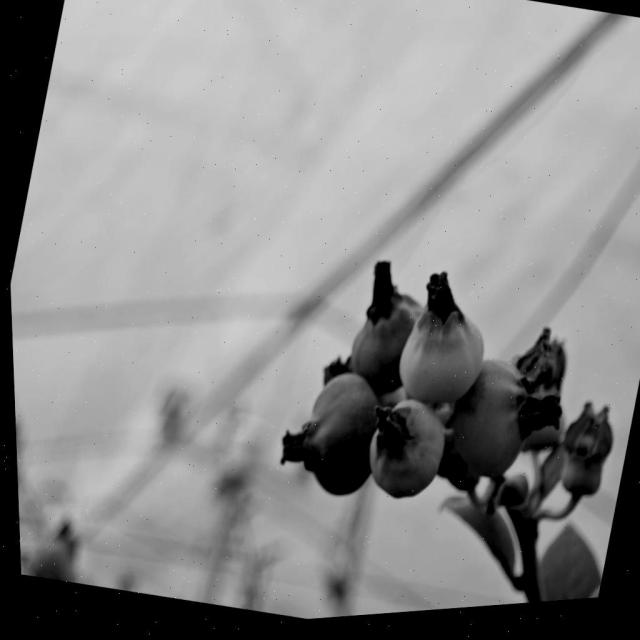RipeBlueBerry: (287, 368, 391, 512)
Semi-RipeBlueBerry: (338, 286, 424, 401)
UnripeBlueBerry: (442, 356, 542, 491), (387, 296, 495, 421), (353, 394, 451, 516)
